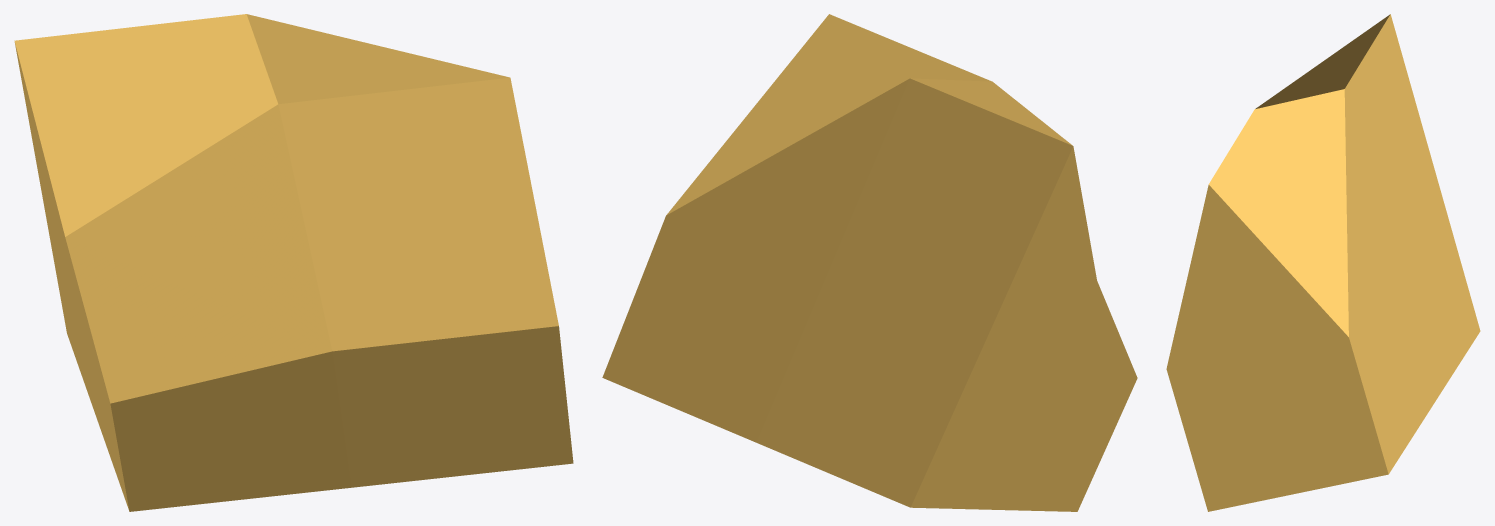
File: Boat skeleton broken column2.fbx
3 renders of one model, left to right at view 1: azimuth 30°, elevation 25°; view 2: azimuth 150°, elevation 25°; view 3: azimuth 270°, elevation 25°, orthographic. The views are drawn at different scales.
Visible parts, largest first — view 1: Broken columns.001; view 2: Broken columns.001; view 3: Broken columns.001.
Boxes of the visible parts, bbox=[...] form: Broken columns.001: bbox=[14, 14, 573, 511]; Broken columns.001: bbox=[602, 14, 1137, 511]; Broken columns.001: bbox=[1166, 14, 1480, 511].
Bounding box in the file's own units: 6.62 × 5.64 × 4.79.
